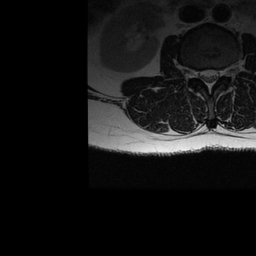CCS_normal: (206, 63, 213, 99)
LFS_normal: (220, 59, 227, 83)
LLS_normal: (213, 61, 220, 89)
RFS_normal: (190, 61, 199, 84)
RLS_normal: (199, 63, 206, 86)
